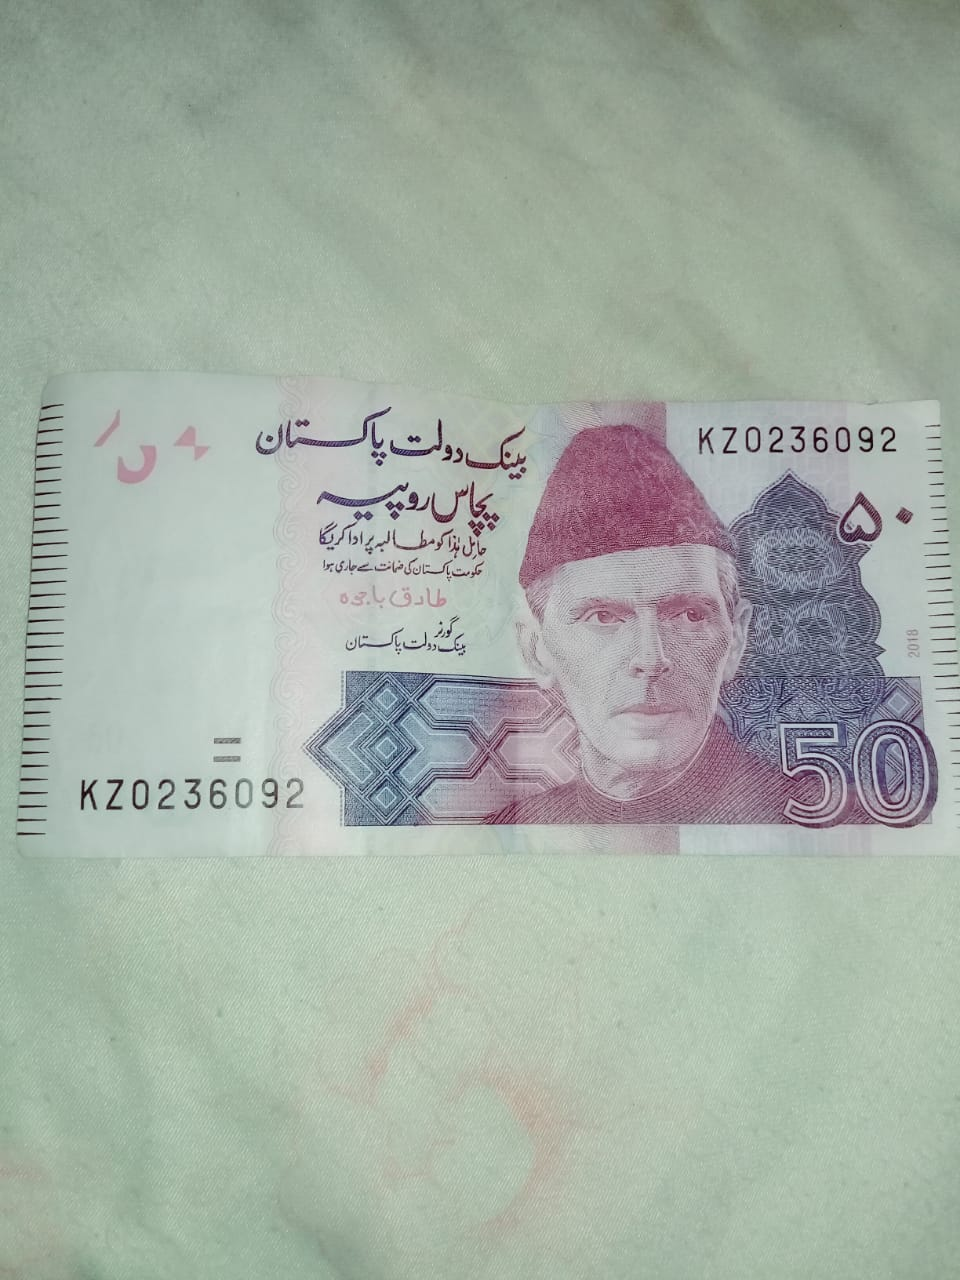50 rupee: (33, 373, 959, 877)
